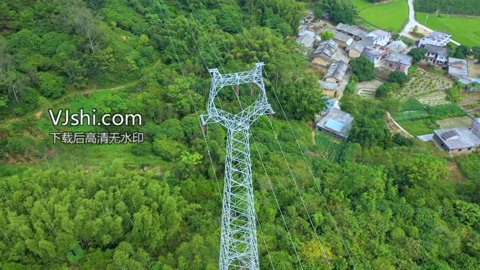tower_body: (196, 58, 279, 270)
tower_foot: (216, 230, 266, 270)
tower_head: (200, 61, 275, 132)
